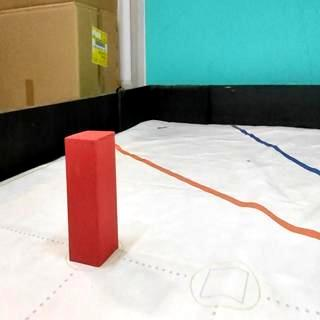redbox: (64, 130, 118, 268)
